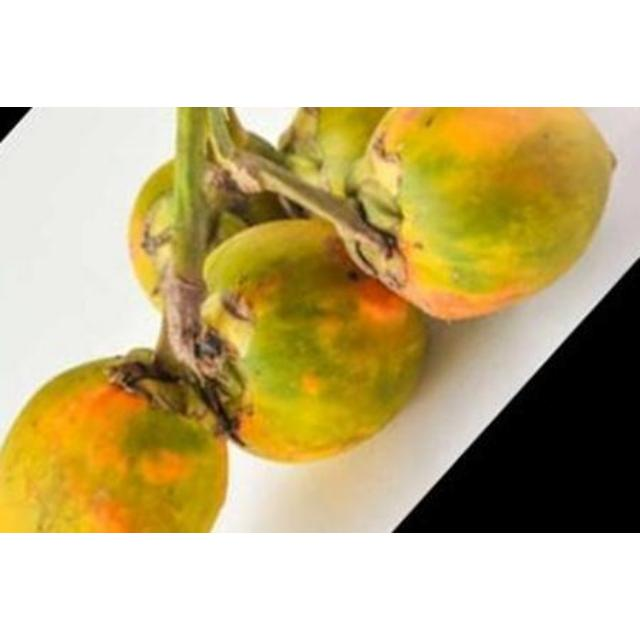good: (196, 216, 428, 462), (377, 109, 607, 311), (2, 358, 225, 532), (130, 158, 182, 306)
